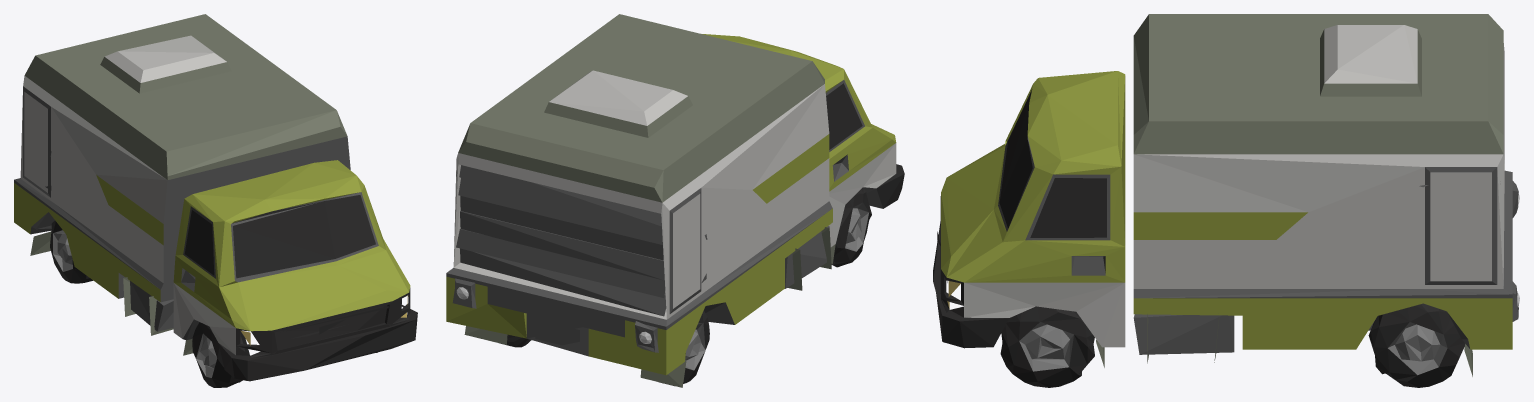
Rendered from truck_lod.glb.
The picture shows the model from 3 angles, left to right: view 1: azimuth 30°, elevation 25°; view 2: azimuth 150°, elevation 25°; view 3: azimuth 270°, elevation 25°; orthographic projection. The views are drawn at different scales.
Visible parts, largest first — view 1: Truck, FrontWheel_R, BackWheels; view 2: Truck, FrontWheel_R, BackWheels; view 3: Truck, BackWheels, FrontWheel_L.
Boxes of the visible parts, x1=… form: Truck: x1=14, y1=14, x2=417, y2=381; FrontWheel_R: x1=192, y1=322, x2=244, y2=387; BackWheels: x1=50, y1=220, x2=92, y2=283; Truck: x1=446, y1=14, x2=904, y2=387; FrontWheel_R: x1=831, y1=187, x2=871, y2=267; BackWheels: x1=501, y1=310, x2=709, y2=386; Truck: x1=933, y1=14, x2=1519, y2=376; BackWheels: x1=1368, y1=303, x2=1465, y2=387; FrontWheel_L: x1=1000, y1=306, x2=1094, y2=387.
Bounding box in the file's own units: 2.71 × 2.88 × 5.25.
3 materials, 1 textured.
